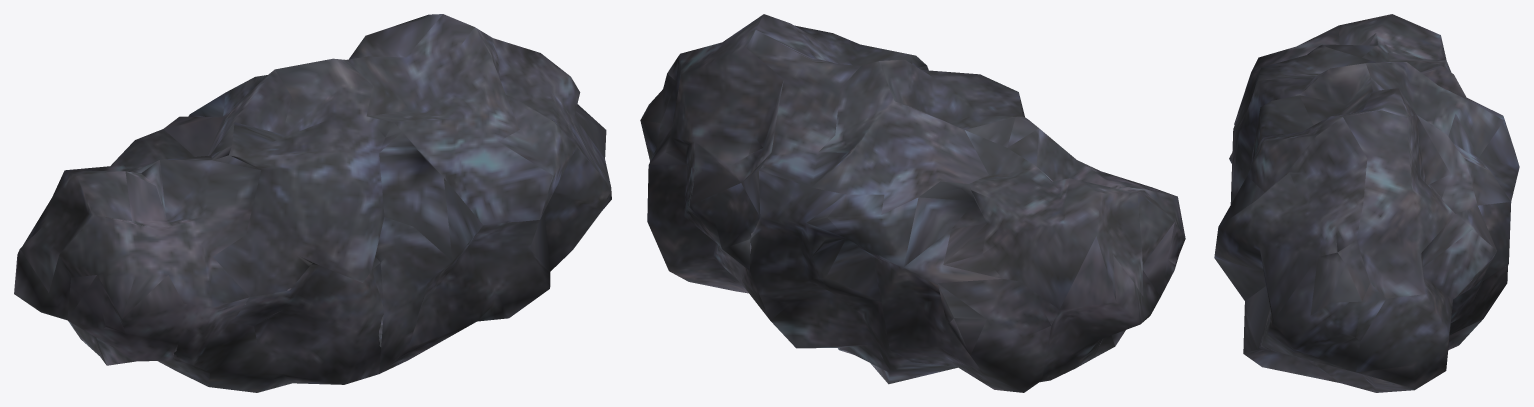
Rendered from asteroid_01.fbx.
3 views of the same model, side by side, from view 1: azimuth 30°, elevation 25°; view 2: azimuth 150°, elevation 25°; view 3: azimuth 270°, elevation 25° (orthographic). The views are drawn at different scales.
Parts seen in each view (by area): view 1: ASTEROID_LOW_POLY_2_; view 2: ASTEROID_LOW_POLY_2_; view 3: ASTEROID_LOW_POLY_2_.
Part boxes in pixels (x1,y1,x2,y2): ASTEROID_LOW_POLY_2_: (14, 14, 611, 392); ASTEROID_LOW_POLY_2_: (640, 14, 1185, 392); ASTEROID_LOW_POLY_2_: (1214, 14, 1519, 392).
Size of the model in its own units: 3356 by 1651 by 1797.
1 material, 1 textured.
